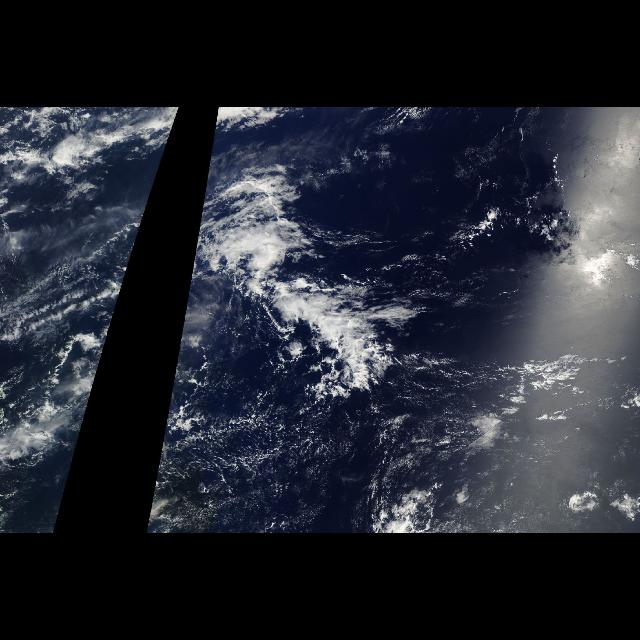Fish: (196, 150, 448, 416)
Gravel: (162, 340, 338, 528)
Sugar: (164, 371, 376, 502)
